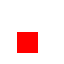square: (17, 32, 37, 52)
